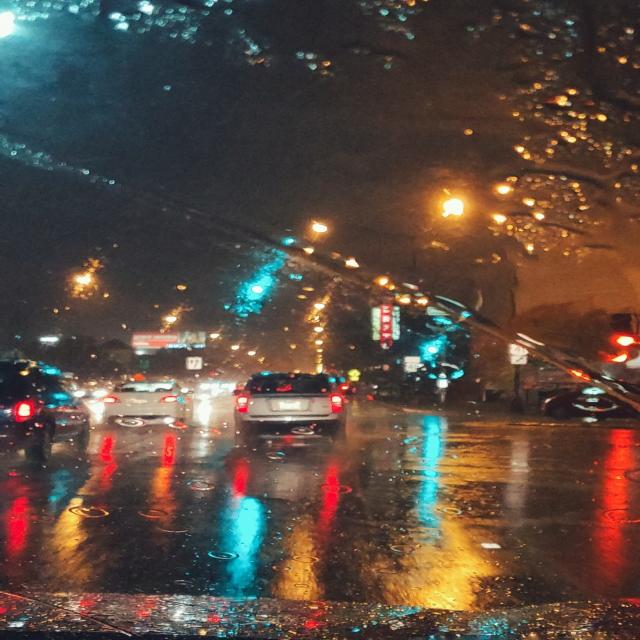car: (3, 358, 95, 466), (231, 374, 349, 442), (101, 378, 193, 427)
